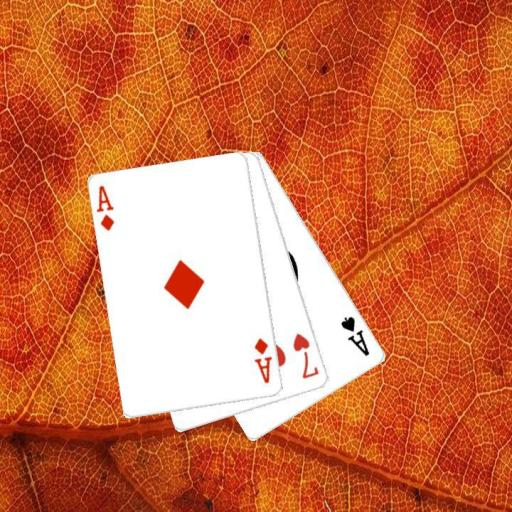7H: (290, 330, 321, 381)
AD: (252, 335, 274, 385), (94, 183, 116, 233)
AS: (338, 313, 372, 358)
